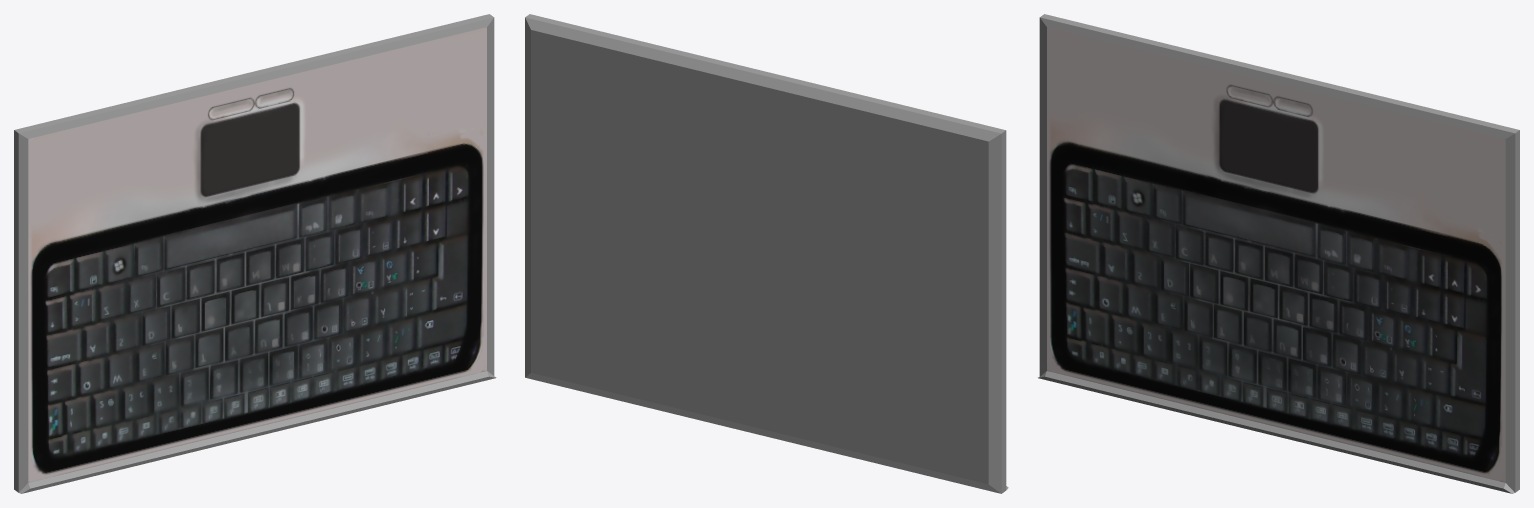
Rendered from laptop_bottom.obj.
3 renders of one model, left to right at view 1: azimuth 30°, elevation 25°; view 2: azimuth 150°, elevation 25°; view 3: azimuth 330°, elevation 25°, orthographic.
Visible parts, largest first — view 1: Cube.001; view 2: Cube.001; view 3: Cube.001.
Part boxes in pixels (<box>): Cube.001: <box>14,14,496,493</box>; Cube.001: <box>525,14,1008,493</box>; Cube.001: <box>1038,14,1519,493</box>.
Bounding box in the file's own units: 0.6126 × 0.4427 × 0.0251.
Materials: 2 (1 with a texture image).
